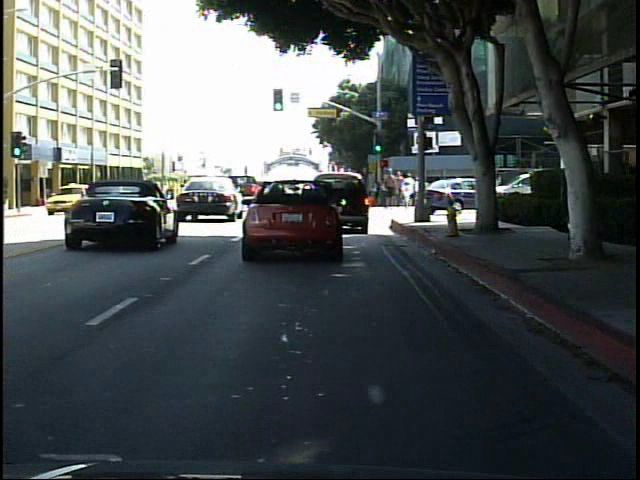person: (555, 153, 583, 244), (381, 166, 401, 212), (110, 177, 129, 204), (401, 176, 415, 208)
